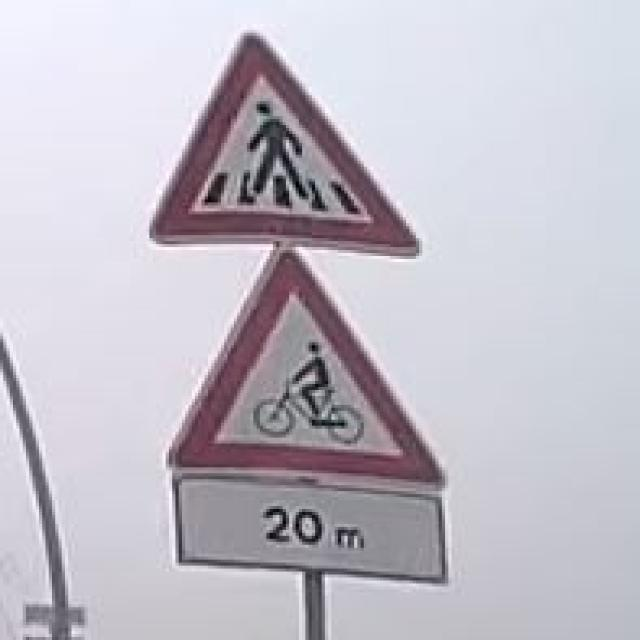Pedestrian crosswalk: (144, 28, 426, 251)
